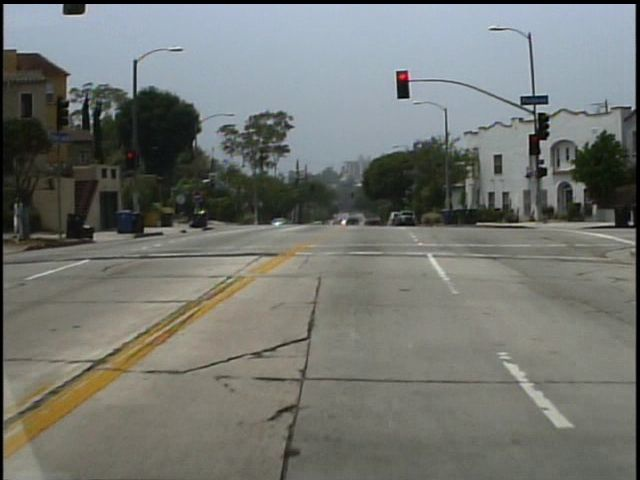person: (17, 197, 29, 241)
